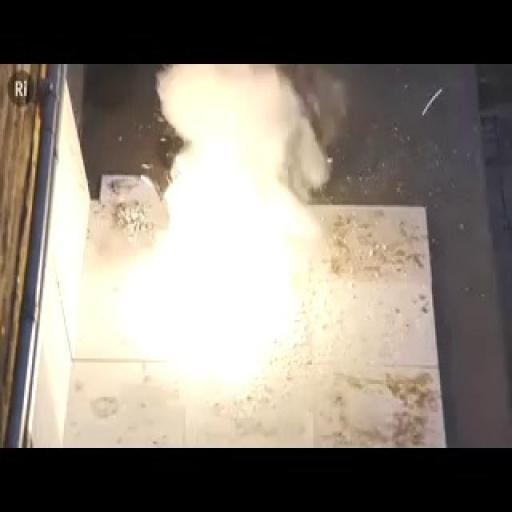smoke: (129, 134, 375, 393)
